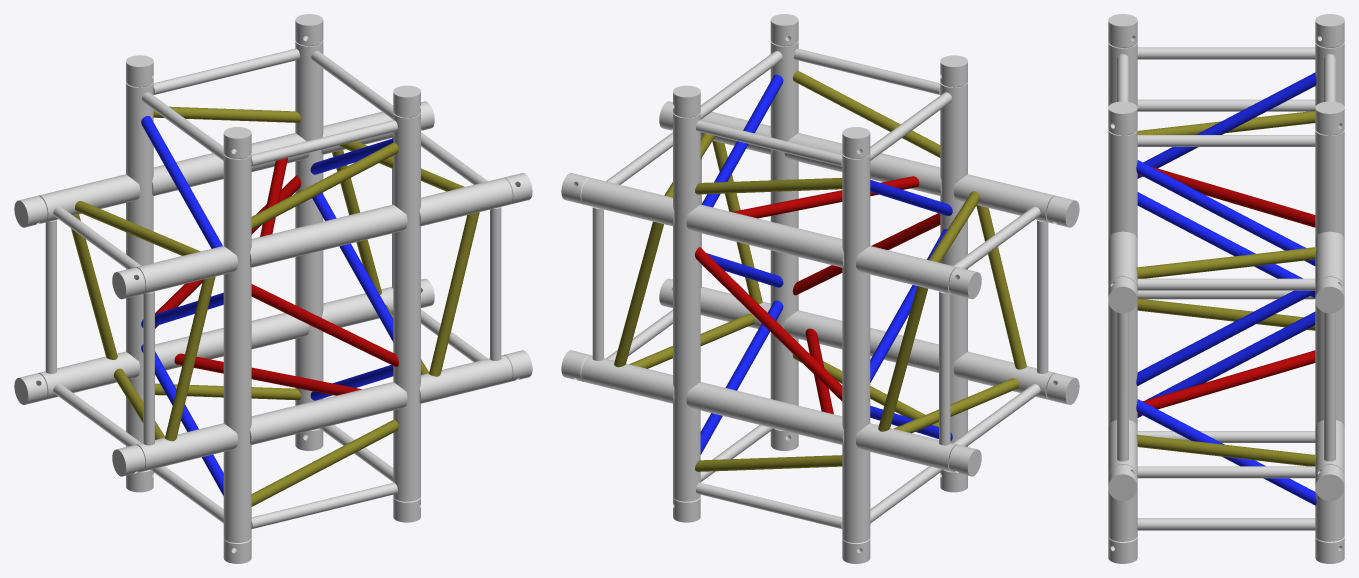
3 renders of one model, left to right at view 1: azimuth 30°, elevation 25°; view 2: azimuth 150°, elevation 25°; view 3: azimuth 270°, elevation 25°, orthographic. The views are drawn at different scales.
Parts seen in each view (by area): view 1: 260028320; view 2: 260028320; view 3: 260028320.
Part boxes in pixels (box(x1,y1,x2,y2)): 260028320: box(14, 14, 532, 563); 260028320: box(561, 14, 1079, 563); 260028320: box(1108, 14, 1344, 563).
Bounding box in the file's own units: 0.813 × 0.813 × 0.3873.
